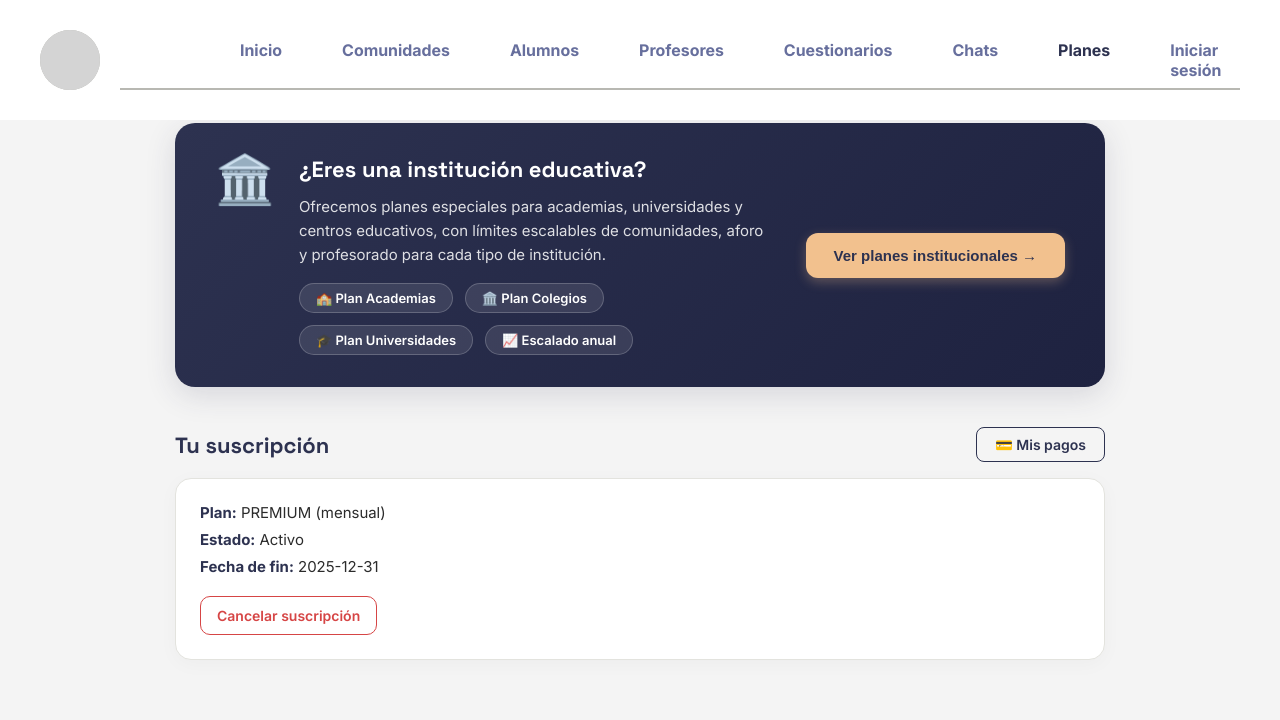
Test: PlansScreen › muestra error cuando falla la cancelación
(page scrolled)
Click the button "Cancelar suscripción".
click(289, 616)  # box [200, 596, 377, 635]
(page scrolled)
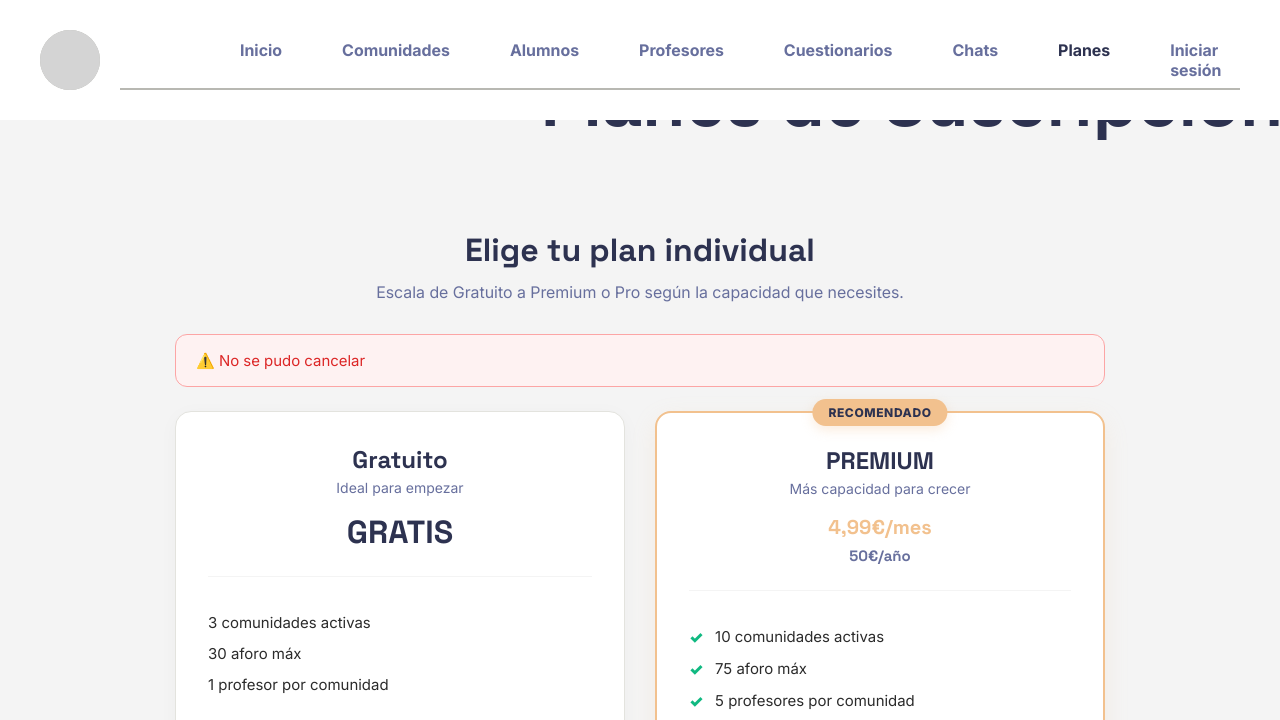
Expected: the text "⚠️ No se pudo cancelar" is shown, [175, 334, 1105, 387]
